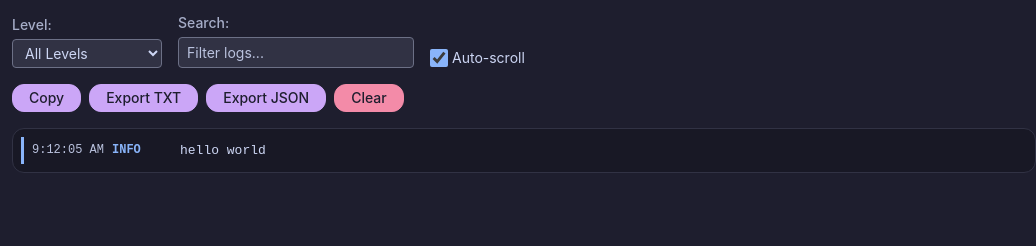
Test: LogsViewer › NIT-10: rendering states › shows 'No logs match current filters' when logs exist but none match
The width and height of the screenshot is (1036, 246).
Type "no-such-term-anywhere" into the field labelled "Search:".
click(296, 52); type("no-such-term-anywhere")  # box [178, 37, 414, 68]
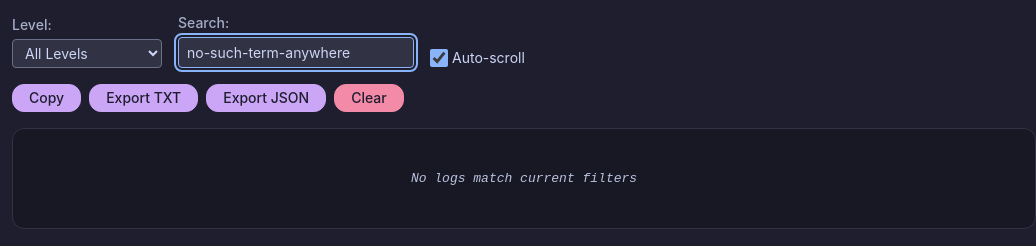
Result: the text "No logs match current filters" is shown at [411, 170, 637, 186]
